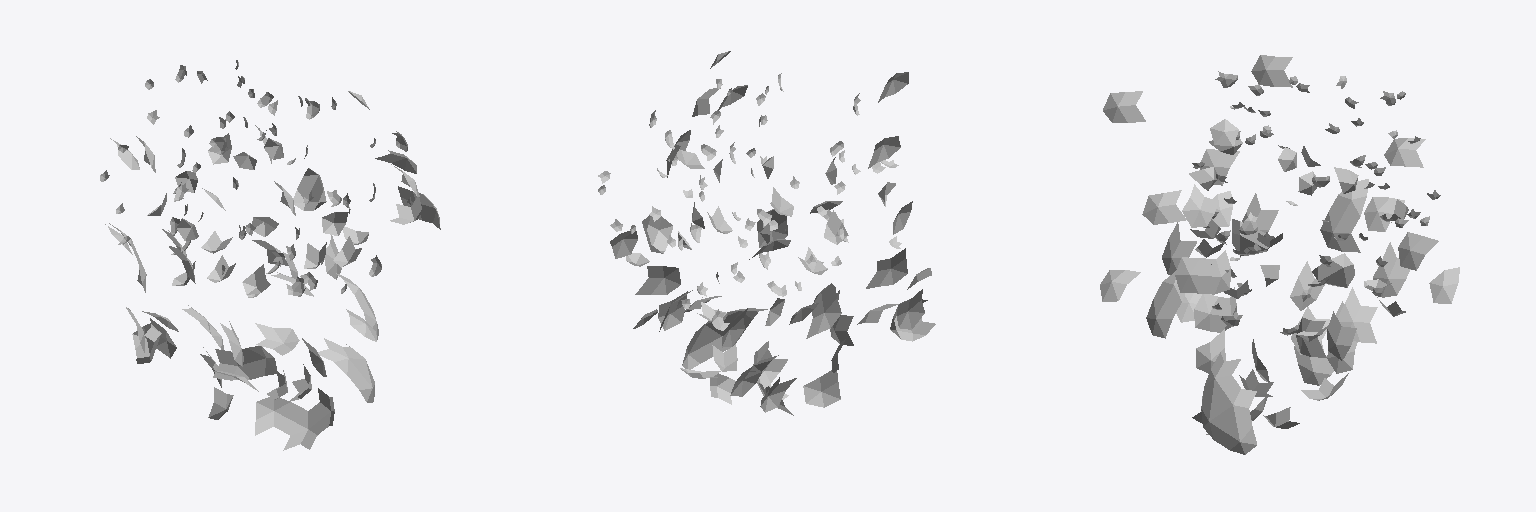
The model's file is azuki_unarmed_exploding_000013.obj.
3 views of the same model, side by side, from view 1: azimuth 30°, elevation 25°; view 2: azimuth 150°, elevation 25°; view 3: azimuth 270°, elevation 25° (orthographic).
Visible parts, largest first — view 1: Body_Icosphere.001, Leg.R_Icosphere.002, Leg.L_Icosphere.005, Eye.L_Icosphere.006, Eye.R_Icosphere.004; view 2: Body_Icosphere.001, Leg.R_Icosphere.002, Leg.L_Icosphere.005, Eye.R_Icosphere.004, Eye.L_Icosphere.006; view 3: Body_Icosphere.001, Leg.R_Icosphere.002, Leg.L_Icosphere.005, Eye.R_Icosphere.004, Eye.L_Icosphere.006.
Boxes of the visible parts, box(x1,y1,x2,y2) form: Body_Icosphere.001: box(105, 91, 440, 450); Leg.R_Icosphere.002: box(175, 133, 421, 401); Leg.L_Icosphere.005: box(132, 138, 361, 399); Eye.L_Icosphere.006: box(100, 65, 350, 297); Eye.R_Icosphere.004: box(177, 60, 410, 293); Body_Icosphere.001: box(610, 51, 931, 415); Leg.R_Icosphere.002: box(626, 145, 827, 404); Leg.L_Icosphere.005: box(692, 157, 935, 388); Eye.R_Icosphere.004: box(598, 79, 845, 308); Eye.L_Icosphere.006: box(657, 73, 901, 330); Body_Icosphere.001: box(1100, 55, 1459, 454); Leg.R_Icosphere.002: box(1195, 147, 1408, 428); Leg.L_Icosphere.005: box(1189, 138, 1405, 396); Eye.R_Icosphere.004: box(1212, 83, 1429, 335); Eye.L_Icosphere.006: box(1192, 71, 1440, 295).
Bounding box in the file's own units: 5.62 × 6.57 × 6.08.